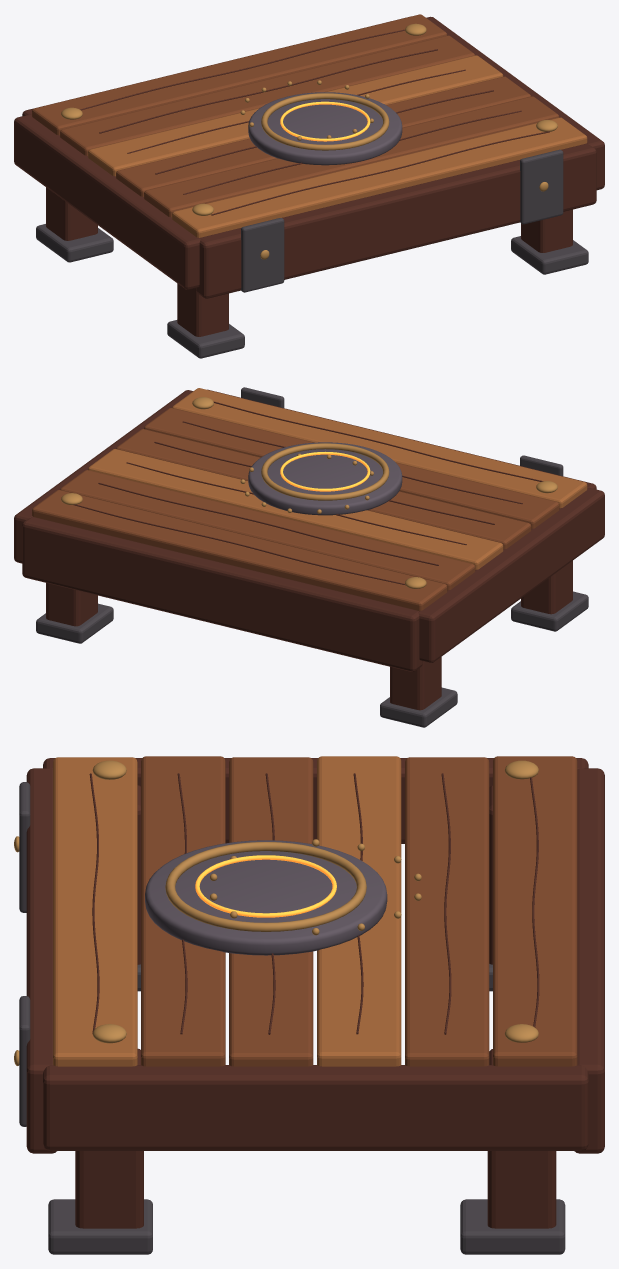
File: hero-workbench.glb
The picture shows the model from 3 angles, top to bottom: view 1: azimuth 30°, elevation 25°; view 2: azimuth 150°, elevation 25°; view 3: azimuth 270°, elevation 25°; orthographic projection. The views are drawn at different scales.
Visible parts, largest first — view 1: Workbench_front_apron, Workbench_plank_0, Workbench_left_rail, Workbench_plank_5, Workbench_plank_4, Workbench_plank_1, Workbench_plank_3, Workbench_hearth, Workbench_plank_2, Workbench_front_bracket_1, Workbench_front_bracket_-1, Workbench_leg_-3.45_-2.28 (+13 smaller); view 2: Workbench_back_apron, Workbench_plank_5, Workbench_left_rail, Workbench_plank_4, Workbench_plank_0, Workbench_plank_3, Workbench_plank_1, Workbench_hearth, Workbench_plank_2, Workbench_leg_-3.45_2.28, Workbench_hearth_brass, Workbench_leg_3.45_2.28 (+13 smaller); view 3: Workbench_right_rail, Workbench_plank_4, Workbench_plank_5, Workbench_plank_0, Workbench_plank_3, Workbench_plank_1, Workbench_hearth, Workbench_plank_2, Workbench_back_apron, Workbench_front_apron, Workbench_leg_3.45_2.28, Workbench_leg_3.45_-2.28 (+12 smaller).
Boxes of the visible parts, x1=… form: Workbench_front_apron: x1=196, y1=143, x2=596, y2=298; Workbench_plank_0: x1=172, y1=117, x2=587, y2=237; Workbench_left_rail: x1=14, y1=114, x2=200, y2=289; Workbench_plank_5: x1=32, y1=14, x2=447, y2=135; Workbench_plank_4: x1=60, y1=35, x2=474, y2=155; Workbench_plank_1: x1=144, y1=96, x2=559, y2=217; Workbench_plank_3: x1=88, y1=55, x2=503, y2=176; Workbench_hearth: x1=248, y1=92, x2=402, y2=165; Workbench_plank_2: x1=116, y1=76, x2=530, y2=196; Workbench_front_bracket_1: x1=520, y1=149, x2=563, y2=224; Workbench_front_bracket_-1: x1=241, y1=218, x2=284, y2=292; Workbench_leg_-3.45_-2.28: x1=177, y1=283, x2=228, y2=336; Workbench_back_apron: x1=22, y1=517, x2=422, y2=671; Workbench_plank_5: x1=32, y1=490, x2=447, y2=610; Workbench_left_rail: x1=418, y1=488, x2=604, y2=662; Workbench_plank_4: x1=60, y1=470, x2=475, y2=590; Workbench_plank_0: x1=172, y1=388, x2=587, y2=508; Workbench_plank_3: x1=88, y1=449, x2=503, y2=569; Workbench_plank_1: x1=144, y1=408, x2=559, y2=528; Workbench_hearth: x1=248, y1=442, x2=402, y2=515; Workbench_plank_2: x1=116, y1=429, x2=531, y2=549; Workbench_leg_-3.45_2.28: x1=390, y1=657, x2=441, y2=710; Workbench_hearth_brass: x1=261, y1=443, x2=389, y2=500; Workbench_leg_3.45_2.28: x1=46, y1=583, x2=97, y2=626; Workbench_right_rail: x1=43, y1=1065, x2=588, y2=1150; Workbench_plank_4: x1=405, y1=757, x2=489, y2=1066; Workbench_plank_5: x1=493, y1=756, x2=577, y2=1066; Workbench_plank_0: x1=53, y1=757, x2=137, y2=1066; Workbench_plank_3: x1=317, y1=756, x2=401, y2=1066; Workbench_plank_1: x1=141, y1=756, x2=225, y2=1066; Workbench_hearth: x1=145, y1=840, x2=387, y2=955; Workbench_plank_2: x1=229, y1=757, x2=313, y2=1066; Workbench_back_apron: x1=574, y1=768, x2=604, y2=1153; Workbench_front_apron: x1=26, y1=768, x2=56, y2=1153; Workbench_leg_3.45_2.28: x1=487, y1=1049, x2=556, y2=1228; Workbench_leg_3.45_-2.28: x1=75, y1=1048, x2=143, y2=1228.
Size of the model in its own units: 8.44 by 2.74 by 6.54.
